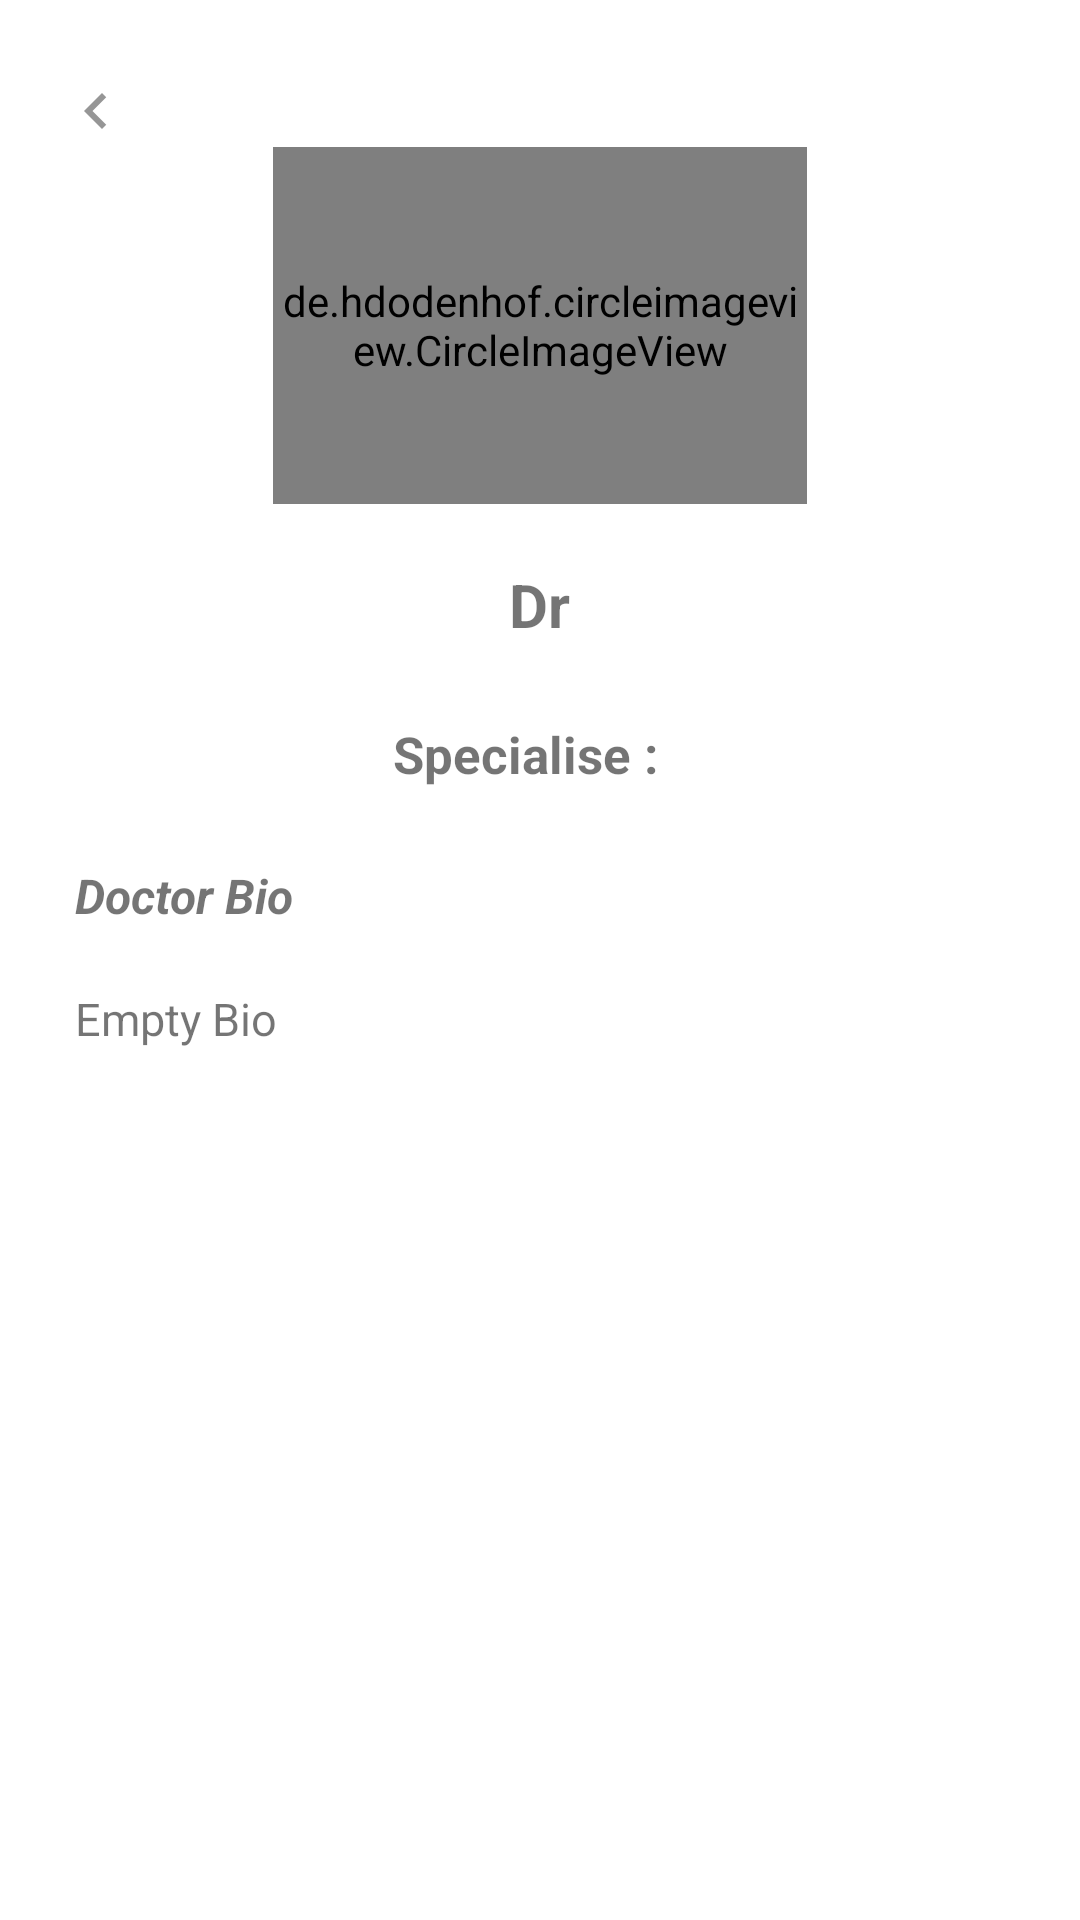

Named icons in this screenshot (1080w x 1920h) and their bounding boxes, (x1, y1, x2, y2):
back: (84, 93, 106, 129)
